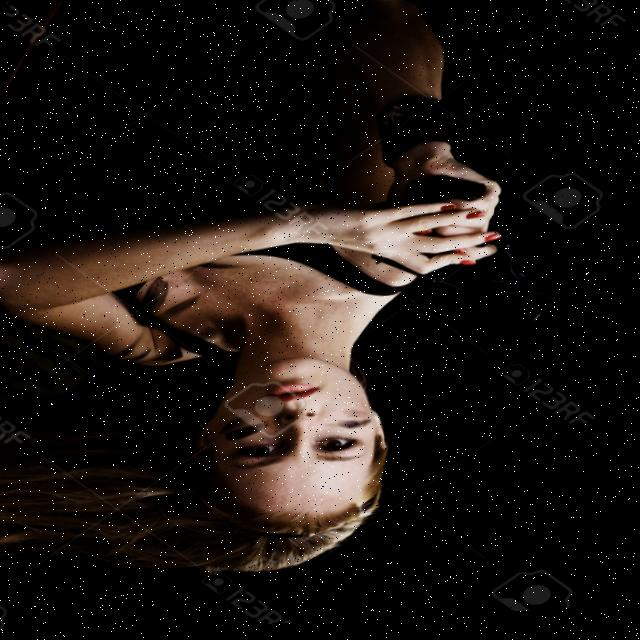pistol: (367, 240, 566, 336)
